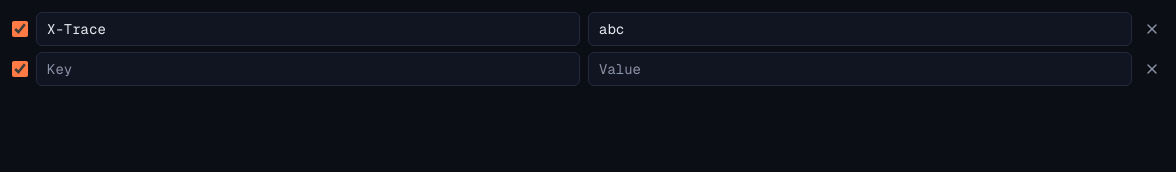
it: KeyValueEditor › removing a row leaves a single trailing blank row behind
The width and height of the screenshot is (1176, 172).
Step 1. Click the 1st button named "Remove row" → (1152, 29), box [1140,17,1164,41]
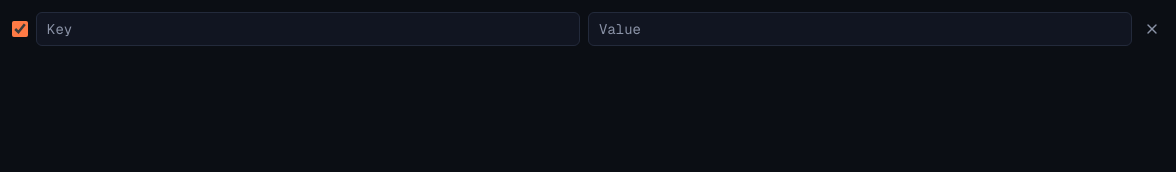
Check: the field showing "X-Trace" is not shown
Check: the number of fields with placeholder "Key" is 1, box [36,12,580,46]
